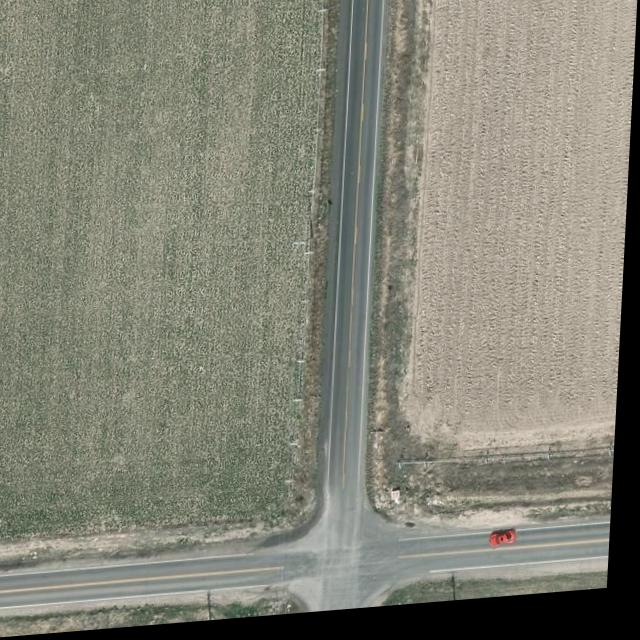vehicle: (495, 538, 525, 557)
